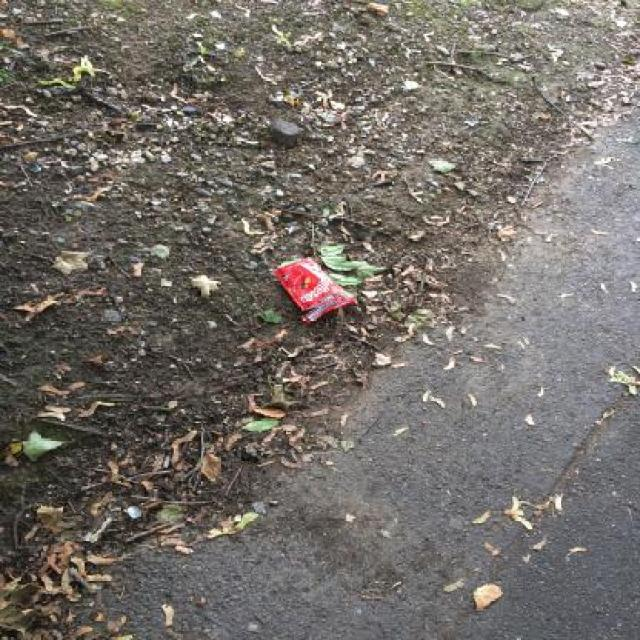plastic: (274, 257, 355, 323)
